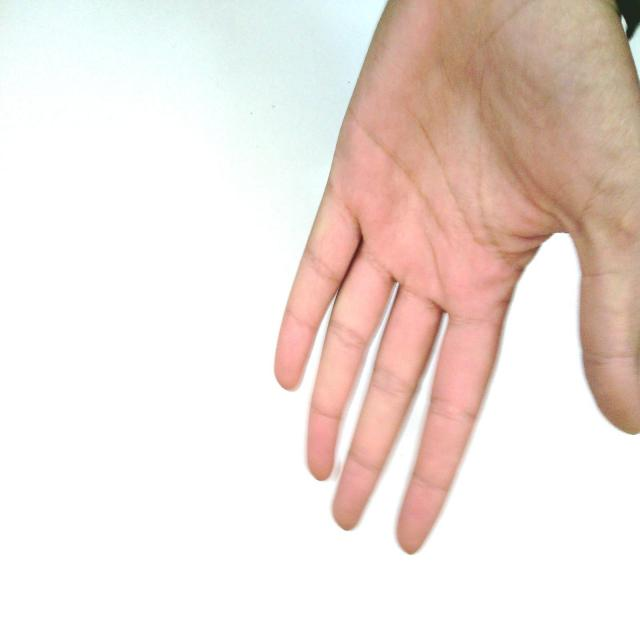others: (182, 0, 639, 578)
